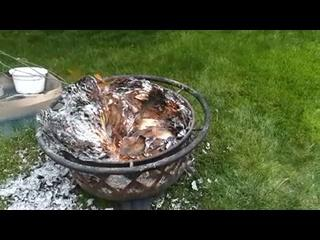Fire: (100, 78, 147, 157)
